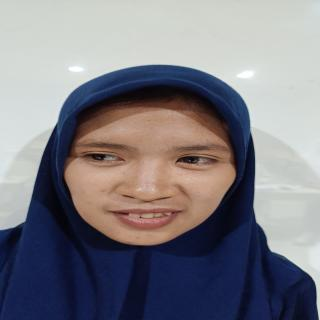Takut: (56, 90, 245, 255)
